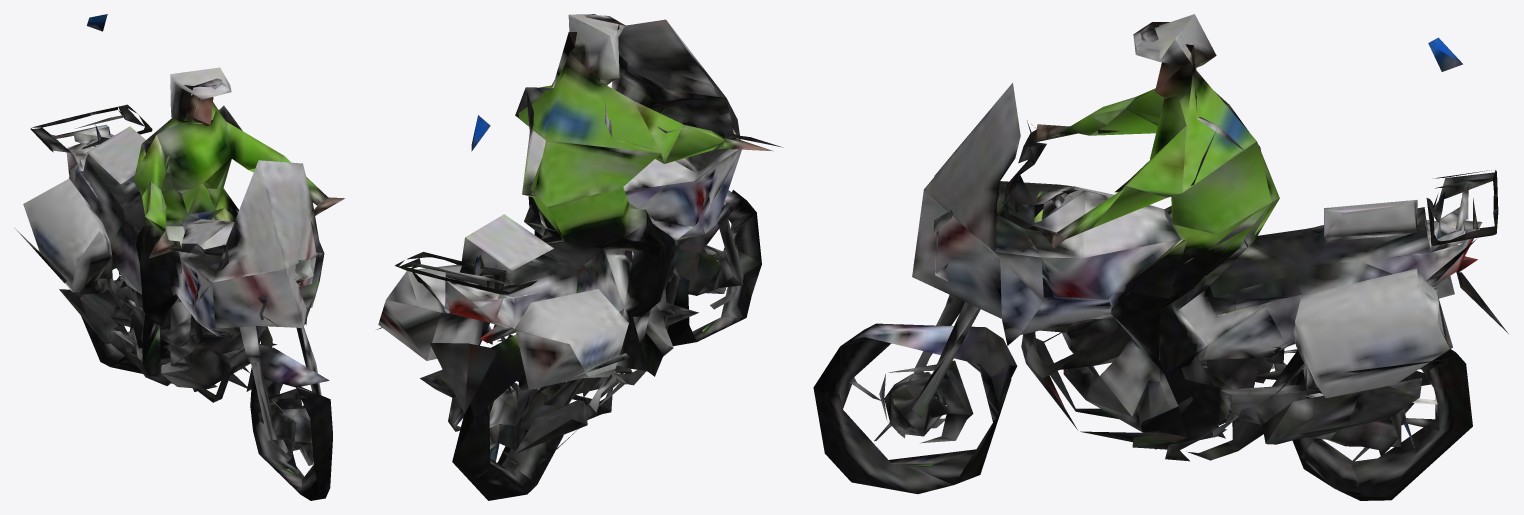
The model's file is motor_patwal_2_lod2.glb.
3 views of the same model, side by side, from view 1: azimuth 30°, elevation 25°; view 2: azimuth 150°, elevation 25°; view 3: azimuth 270°, elevation 25° (orthographic). The views are drawn at different scales.
Parts seen in each view (by area): view 1: tripo_node_68e16c6c; view 2: tripo_node_68e16c6c; view 3: tripo_node_68e16c6c.
Part boxes in pixels (x1,y1,x2,y2): tripo_node_68e16c6c: (15, 14, 344, 500); tripo_node_68e16c6c: (376, 14, 783, 500); tripo_node_68e16c6c: (813, 14, 1508, 500).
Bounding box in the file's own units: 46.21 × 74.42 × 99.96.
Materials: 1 (1 with a texture image).
